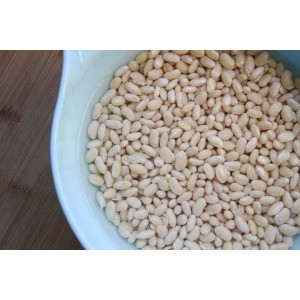beans_brain food: (131, 92, 269, 181)
